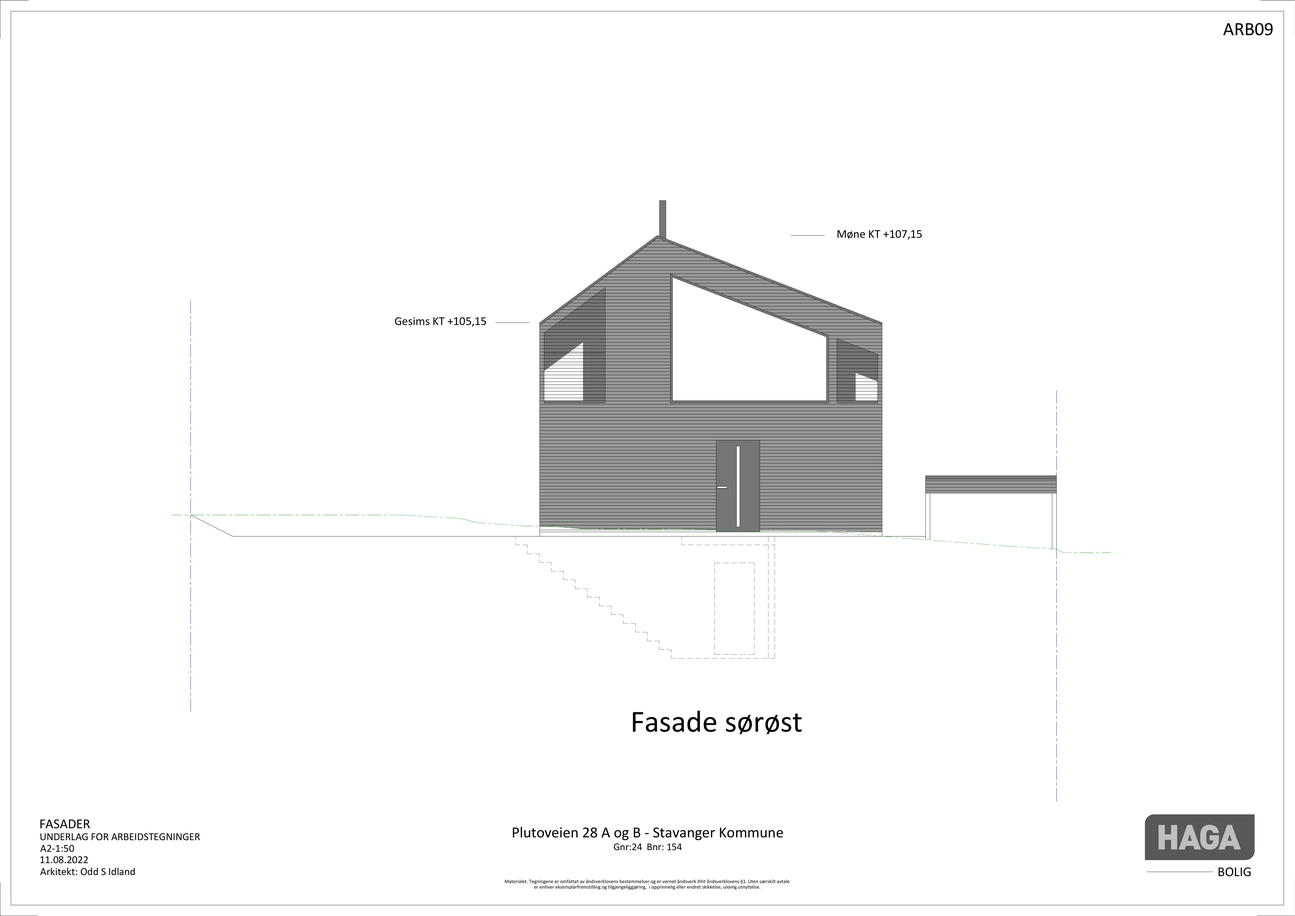fasade: (539, 202, 883, 536)
